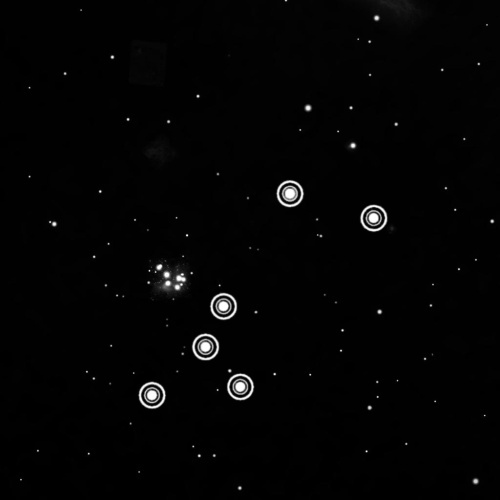canis_major: (127, 173, 392, 420)
